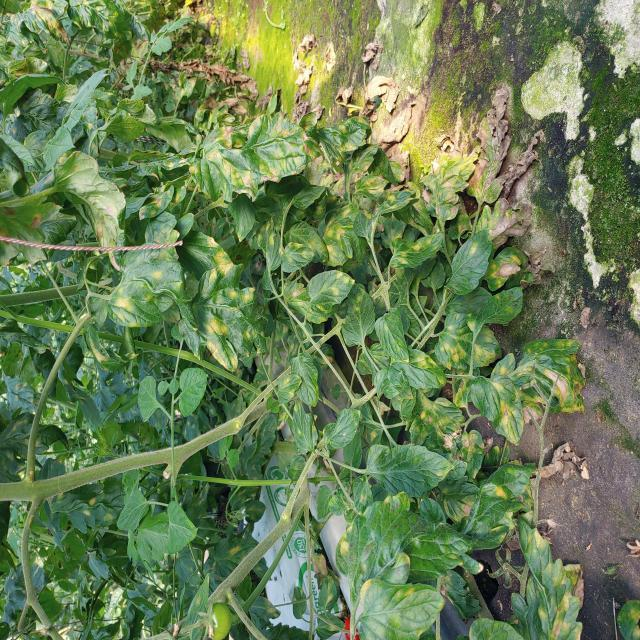Tomato healthy leaf: (136, 501, 198, 562), (178, 367, 208, 418), (116, 489, 149, 531), (136, 375, 156, 423), (343, 431, 362, 468), (122, 58, 138, 90), (130, 83, 153, 101), (228, 448, 240, 469)
Tomato mold leaf: (336, 491, 478, 600), (106, 242, 208, 361), (188, 126, 320, 204), (511, 510, 583, 640), (193, 263, 274, 372), (54, 150, 126, 272), (451, 458, 538, 550), (490, 338, 586, 416), (0, 195, 78, 268), (359, 577, 446, 640), (0, 407, 70, 483), (366, 444, 454, 498), (421, 146, 482, 220), (406, 388, 466, 462), (435, 312, 503, 370), (246, 114, 324, 164), (471, 373, 524, 446), (50, 482, 124, 534), (67, 0, 151, 42), (353, 188, 417, 238), (445, 230, 493, 296), (9, 0, 72, 50), (175, 230, 234, 282), (322, 202, 367, 268), (476, 198, 535, 248), (83, 322, 140, 372), (316, 116, 372, 166), (466, 286, 523, 332), (388, 348, 448, 390), (214, 537, 269, 581), (284, 280, 338, 324), (306, 269, 355, 315), (341, 282, 375, 348), (378, 197, 434, 236), (484, 245, 530, 291), (350, 144, 398, 188), (389, 231, 444, 269), (374, 306, 410, 364), (285, 220, 328, 264), (144, 211, 180, 261), (443, 475, 480, 523), (290, 352, 319, 406), (134, 155, 192, 182), (187, 572, 210, 640), (322, 408, 360, 448), (4, 376, 42, 414), (256, 217, 282, 270), (292, 401, 318, 454), (466, 617, 522, 640), (139, 184, 174, 220), (448, 196, 473, 240), (462, 429, 484, 479), (281, 242, 315, 274), (616, 598, 640, 640), (352, 474, 374, 516), (354, 175, 390, 200), (316, 612, 346, 639), (278, 373, 302, 404), (318, 576, 337, 612), (292, 583, 307, 620), (246, 498, 266, 524), (327, 494, 350, 516), (288, 454, 306, 480)
